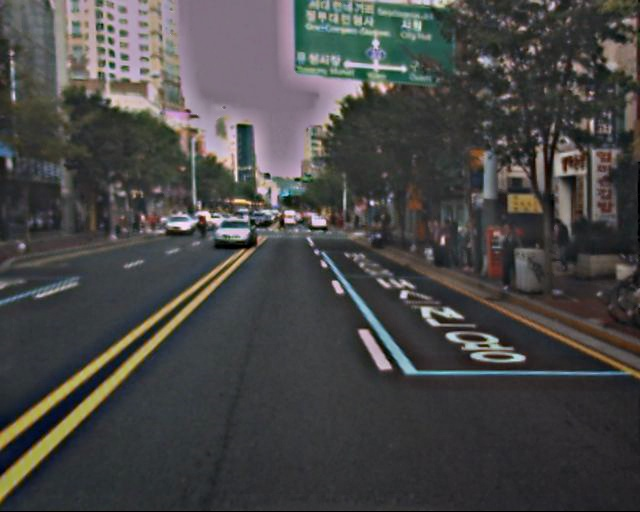person: (493, 228, 519, 292), (548, 216, 572, 275), (457, 222, 479, 275), (436, 220, 456, 268), (425, 217, 443, 262)
